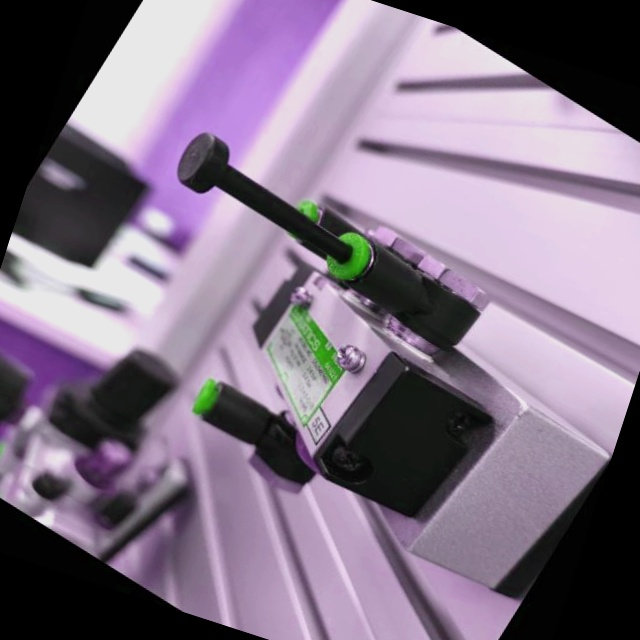5by2 DCV: (4, 71, 640, 640)
